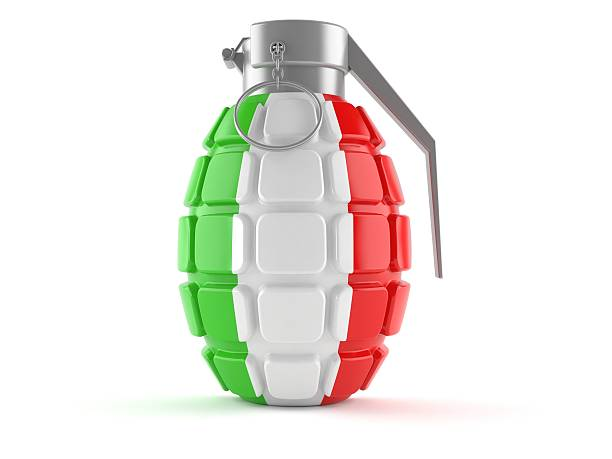e1: (179, 15, 446, 407)
